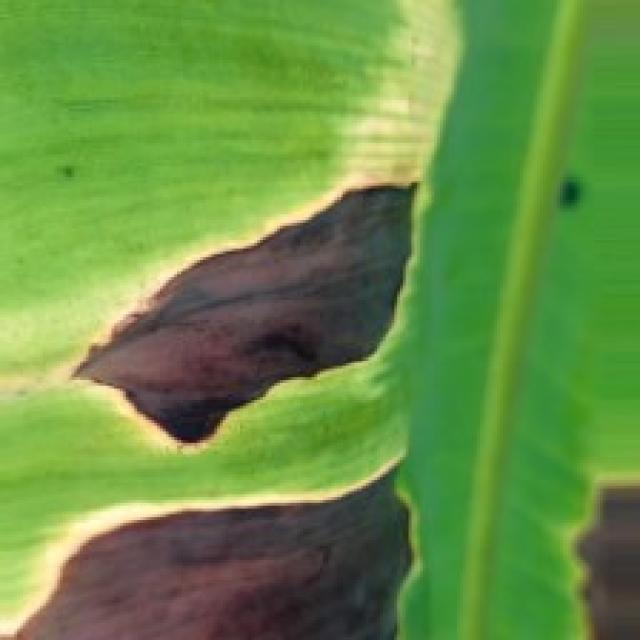Bacterial_spot: (67, 161, 450, 452), (1, 453, 458, 640), (551, 440, 640, 640)
